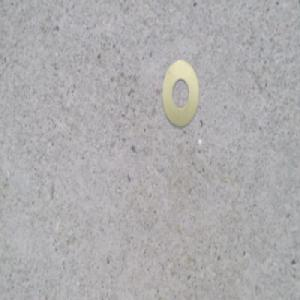Washer: (162, 58, 201, 129)
